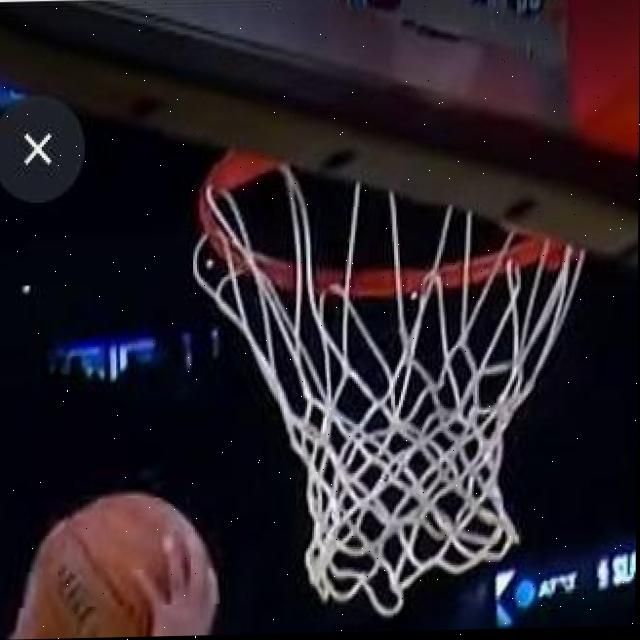hoop: (152, 137, 601, 587)
